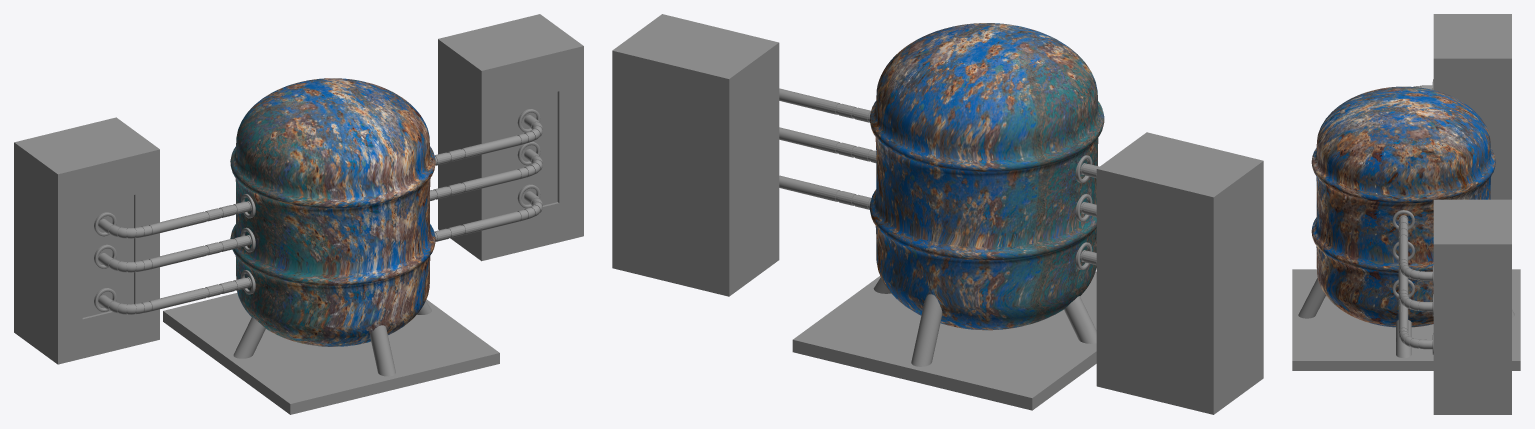
Rendered from ind_tank_set.FBX.
3 renders of one model, left to right at view 1: azimuth 30°, elevation 25°; view 2: azimuth 150°, elevation 25°; view 3: azimuth 270°, elevation 25°, orthographic. The views are drawn at different scales.
Parts seen in each view (by area): view 1: ind_tank_elem, ind_tank, ind_tank_pan, ind_tank_pipe, ind_tank_tube; view 2: ind_tank_elem, ind_tank, ind_tank_pan, ind_tank_pipe, ind_tank_tube; view 3: ind_tank, ind_tank_elem, ind_tank_pan, ind_tank_pipe, ind_tank_tube.
Part boxes in pixels (bbox=[...]): ind_tank_elem: bbox=[14, 14, 583, 364]; ind_tank: bbox=[230, 78, 435, 346]; ind_tank_pan: bbox=[163, 293, 499, 414]; ind_tank_pipe: bbox=[98, 115, 542, 314]; ind_tank_tube: bbox=[94, 109, 540, 311]; ind_tank_elem: bbox=[612, 14, 1263, 414]; ind_tank: bbox=[869, 23, 1104, 330]; ind_tank_pan: bbox=[792, 271, 1096, 410]; ind_tank_pipe: bbox=[779, 88, 1099, 265]; ind_tank_tube: bbox=[1075, 155, 1092, 270]; ind_tank: bbox=[1311, 86, 1495, 327]; ind_tank_elem: bbox=[1433, 14, 1511, 414]; ind_tank_pan: bbox=[1292, 269, 1520, 370]; ind_tank_pipe: bbox=[1398, 85, 1432, 349]; ind_tank_tube: bbox=[1392, 79, 1433, 354].
Bounding box in the file's own units: 222 × 101 × 93.16.
Materials: 5 (1 with a texture image).
